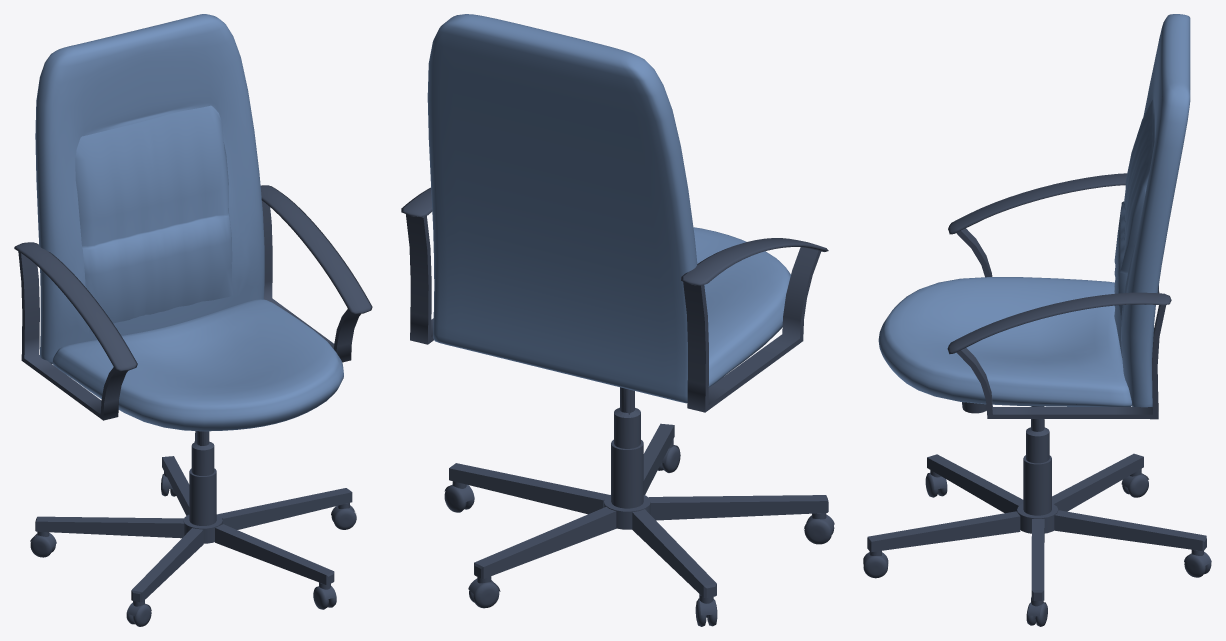
Rendered from Allak_Swivel_Chair-3D.DAE.
3 renders of one model, left to right at view 1: azimuth 30°, elevation 25°; view 2: azimuth 150°, elevation 25°; view 3: azimuth 270°, elevation 25°, orthographic. The views are drawn at different scales.
Visible parts, largest first — view 1: Plane01; view 2: Plane01; view 3: Plane01.
Part boxes in pixels (left/top/right/bottom): Plane01: left=14, top=14, right=372, bottom=626; Plane01: left=401, top=14, right=834, bottom=626; Plane01: left=863, top=14, right=1211, bottom=626.
Bounding box in the file's own units: 537 × 879 × 552.
